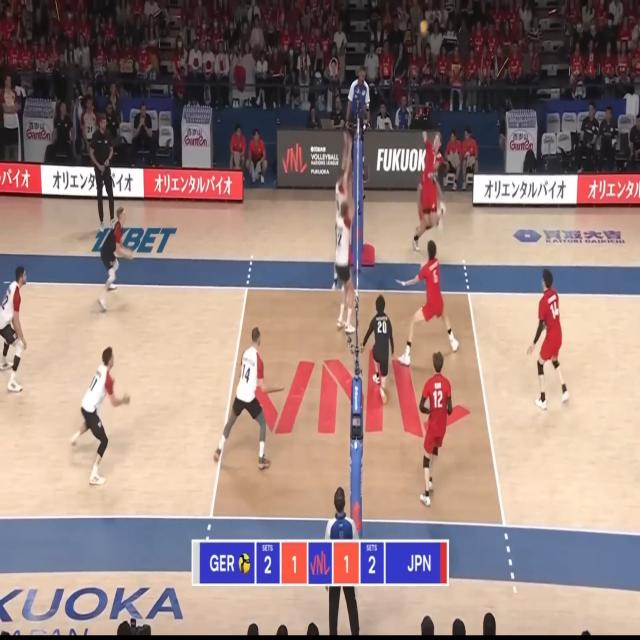ball: (420, 20, 428, 36)
